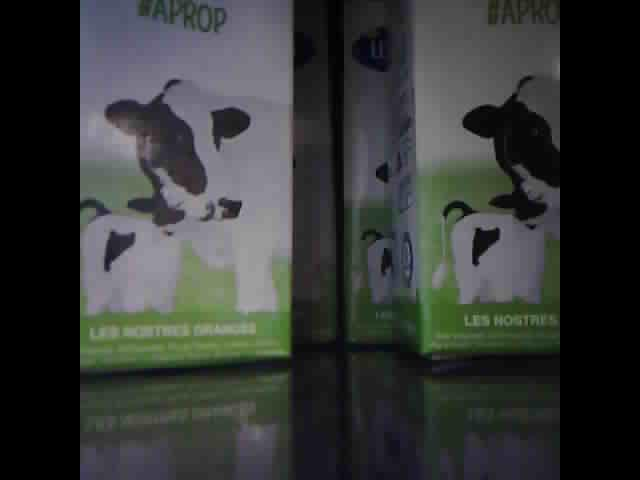leche: (80, 1, 292, 375), (396, 4, 559, 362), (344, 4, 393, 346), (292, 4, 337, 347)
